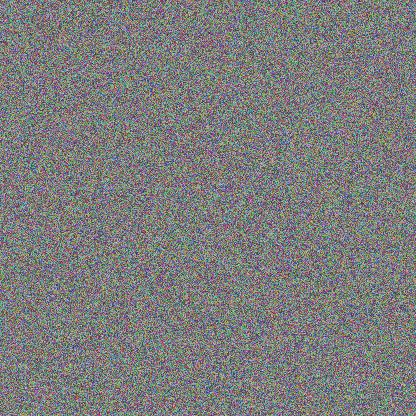empty: (65, 44, 173, 133)
occupied: (219, 210, 327, 301), (47, 233, 170, 277)
